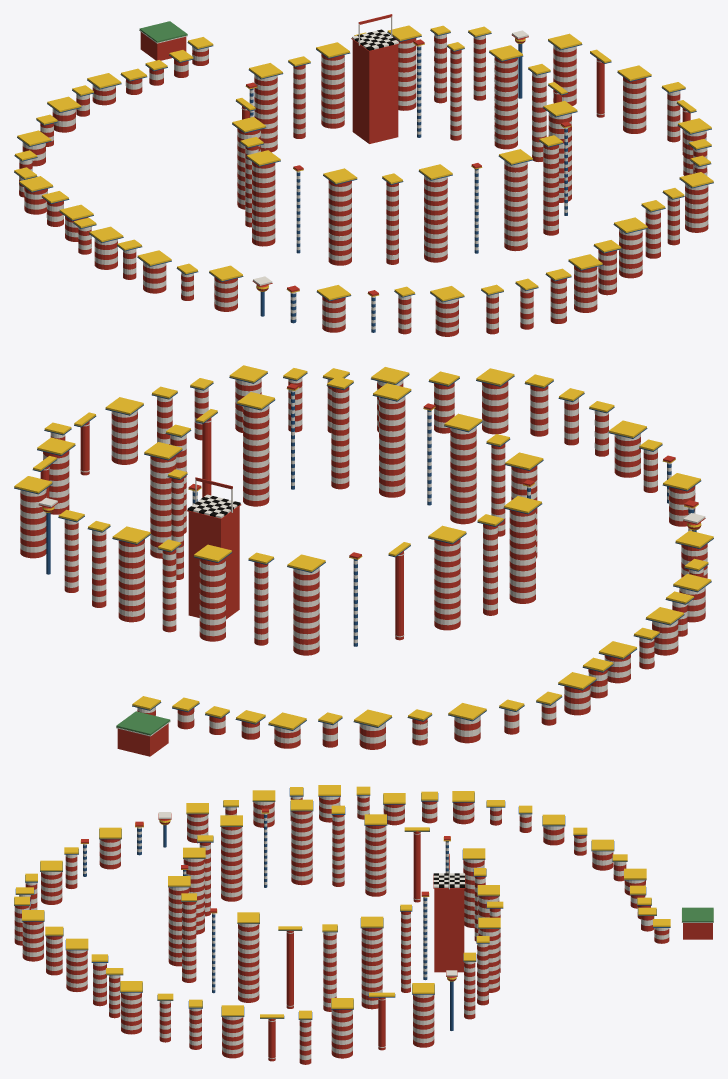
File: picadeiro.glb
The picture shows the model from 3 angles, top to bottom: view 1: azimuth 30°, elevation 25°; view 2: azimuth 150°, elevation 25°; view 3: azimuth 270°, elevation 25°; orthographic projection. The views are drawn at different scales.
Visible parts, largest first — view 1: map_bh_red.001, map_bh_white.001, map_bh_yellow.001, map_bh_blue.001, map_bh_green.001; view 2: map_bh_red.001, map_bh_white.001, map_bh_yellow.001, map_bh_blue.001, map_bh_green.001; view 3: map_bh_red.001, map_bh_white.001, map_bh_yellow.001, map_bh_blue.001, map_bh_green.001.
Boxes of the visible parts, bbox=[...] form: map_bh_red.001: bbox=[19, 14, 708, 336]; map_bh_white.001: bbox=[19, 16, 708, 332]; map_bh_yellow.001: bbox=[14, 25, 713, 301]; map_bh_blue.001: bbox=[14, 30, 713, 332]; map_bh_green.001: bbox=[139, 21, 187, 42]; map_bh_red.001: bbox=[20, 381, 707, 756]; map_bh_white.001: bbox=[20, 377, 707, 743]; map_bh_yellow.001: bbox=[14, 365, 713, 729]; map_bh_blue.001: bbox=[14, 372, 713, 730]; map_bh_green.001: bbox=[116, 711, 170, 735]; map_bh_red.001: bbox=[14, 796, 712, 1064]; map_bh_white.001: bbox=[14, 795, 713, 1060]; map_bh_yellow.001: bbox=[14, 785, 670, 1019]; map_bh_blue.001: bbox=[14, 788, 670, 1030]; map_bh_green.001: bbox=[682, 907, 713, 922].
Bounding box in the file's own units: 115 × 22.35 × 135.
